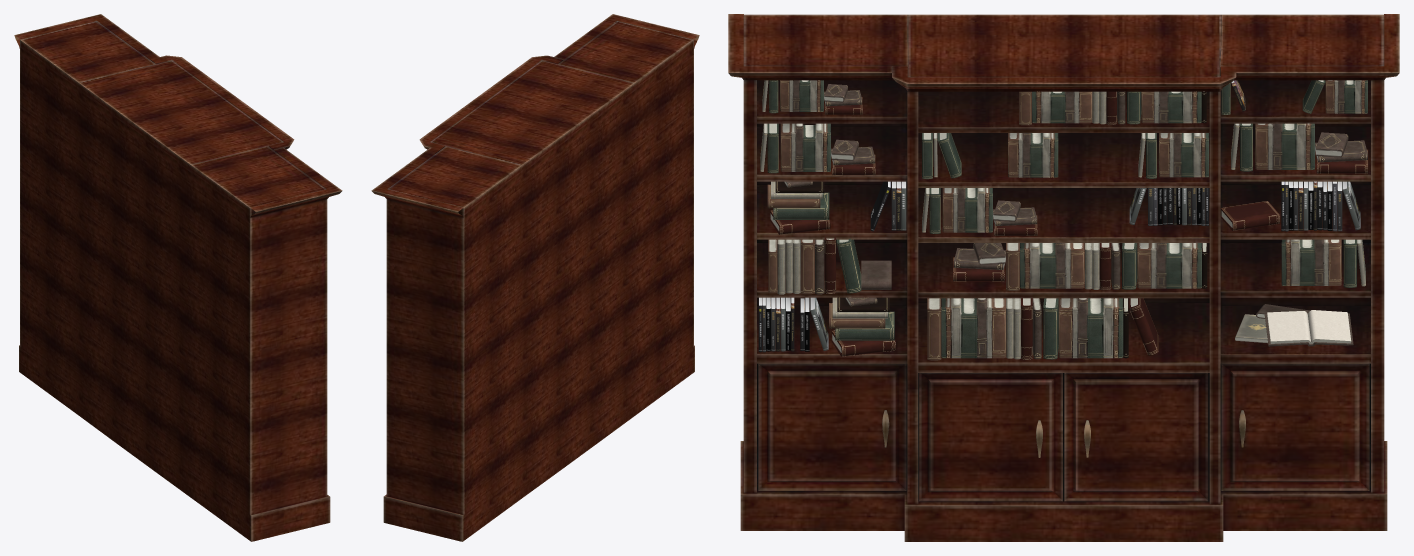
Rendered from bookshelf.glb.
The picture shows the model from 3 angles, left to right: view 1: azimuth 30°, elevation 25°; view 2: azimuth 150°, elevation 25°; view 3: azimuth 270°, elevation 25°; orthographic projection. The views are drawn at different scales.
Visible parts, largest first — view 1: shkaff_obj_1; view 2: shkaff_obj_1; view 3: shkaff_obj_1, BOOKS_1.
Boxes of the visible parts, box(x1,y1,x2,y2) form: shkaff_obj_1: box(14, 14, 342, 541); shkaff_obj_1: box(371, 14, 699, 541); shkaff_obj_1: box(728, 14, 1399, 541); BOOKS_1: box(758, 80, 1368, 360).
Size of the model in its own units: 1.24 by 3.82 by 5.01.
13 materials, 12 textured.
